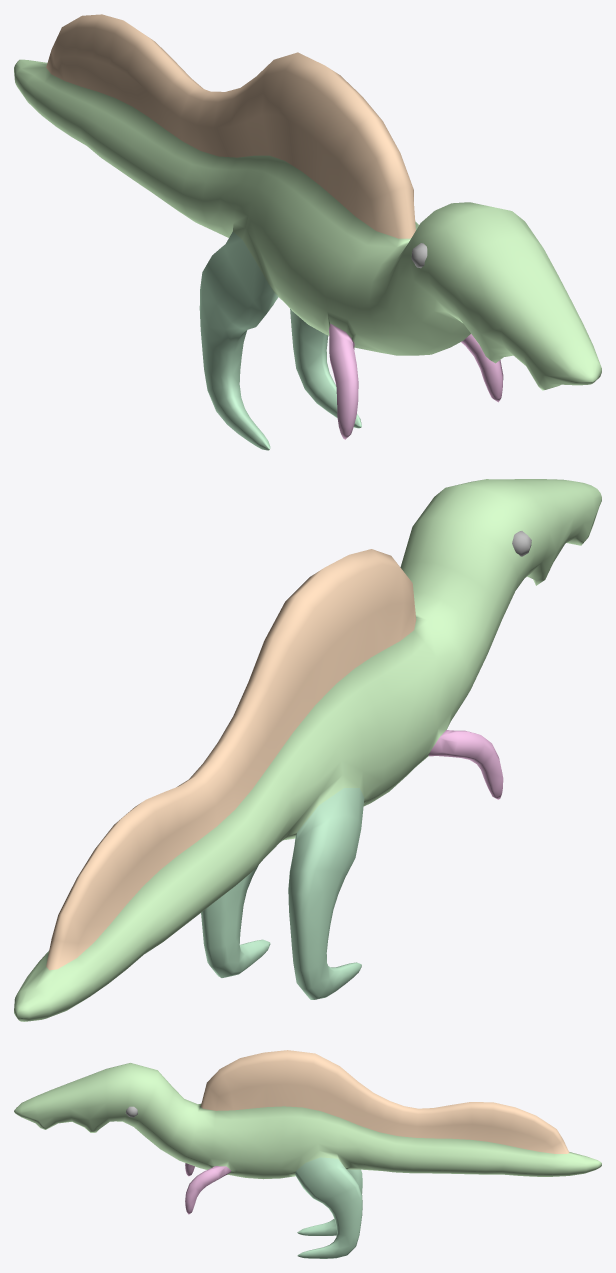
Rendered from WS_VR_FBX_Spinosaure_low.fbx.
3 views of the same model, one above another, from view 1: azimuth 30°, elevation 25°; view 2: azimuth 150°, elevation 25°; view 3: azimuth 270°, elevation 25° (orthographic). The views are drawn at different scales.
Visible parts, largest first — view 1: PolySphere1_3; view 2: PolySphere1_3; view 3: PolySphere1_3.
Boxes of the visible parts, x1=… form: PolySphere1_3: x1=14, y1=14, x2=601, y2=450; PolySphere1_3: x1=14, y1=479, x2=601, y2=1021; PolySphere1_3: x1=14, y1=1050, x2=601, y2=1258.
Size of the model in its own units: 1.94 by 4.31 by 11.65.
